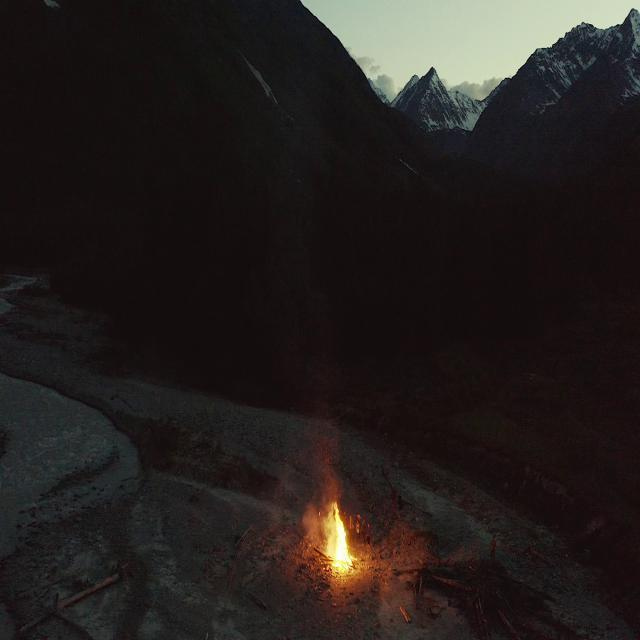Fire: (324, 498, 354, 576)
